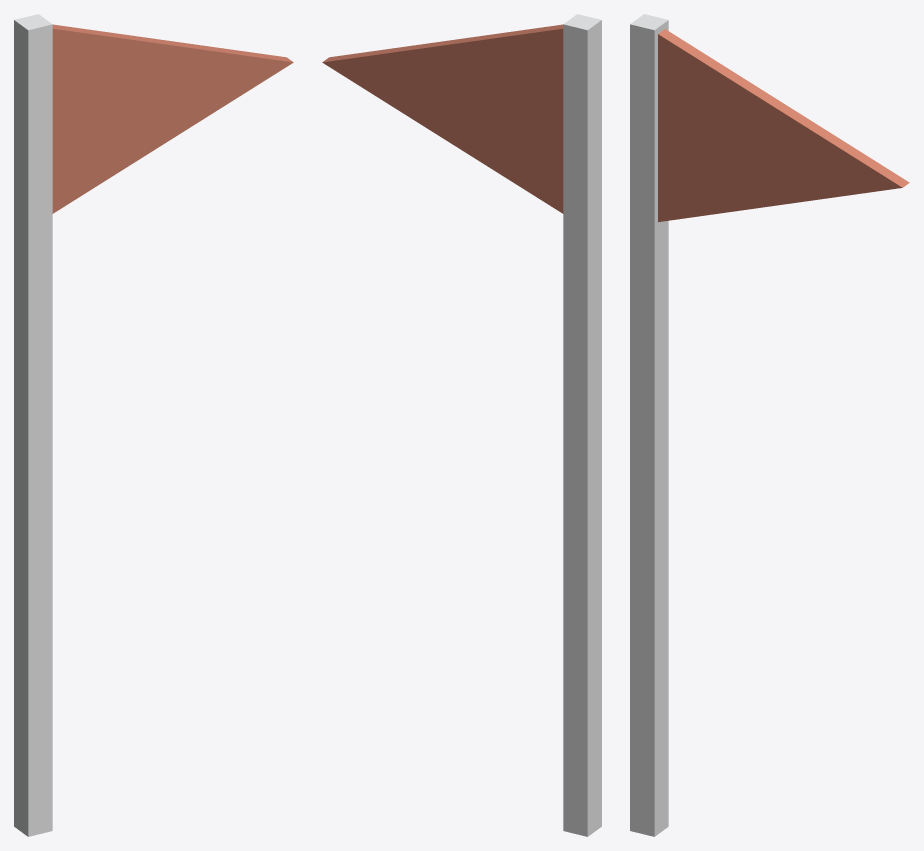
File: Flag_red_01.glb
3 views of the same model, side by side, from view 1: azimuth 30°, elevation 25°; view 2: azimuth 150°, elevation 25°; view 3: azimuth 330°, elevation 25° (orthographic).
Visible parts, largest first — view 1: Mesh1 Flag_red Model; view 2: Mesh1 Flag_red Model; view 3: Mesh1 Flag_red Model.
Part boxes in pixels (<box>): Mesh1 Flag_red Model: <box>14,14,293,836</box>; Mesh1 Flag_red Model: <box>322,14,601,836</box>; Mesh1 Flag_red Model: <box>630,14,909,836</box>.
Bounding box in the file's own units: 2.2 × 6.3 × 0.2.
